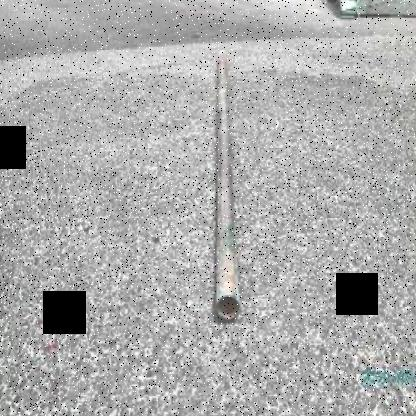pipe: (216, 295, 240, 321)
